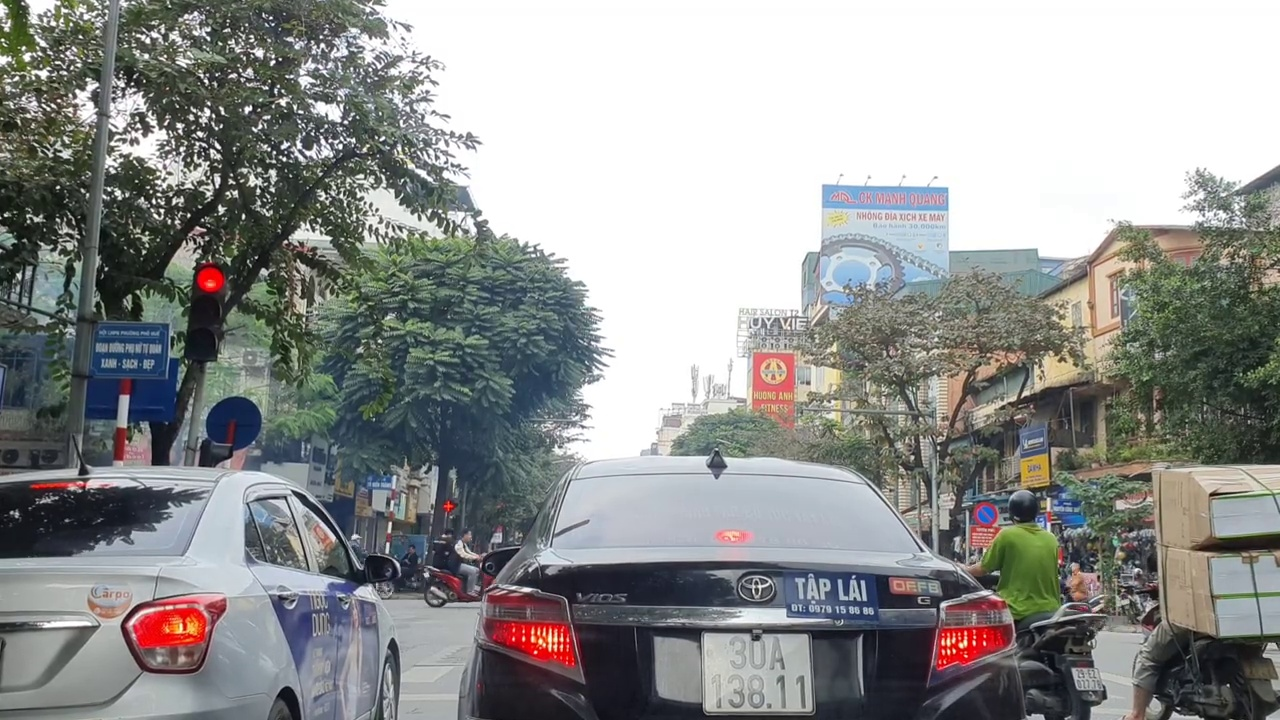person: (1066, 655, 1111, 696)
